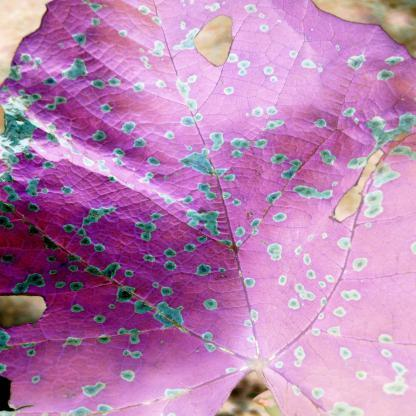grape leaf: (5, 2, 408, 412)
